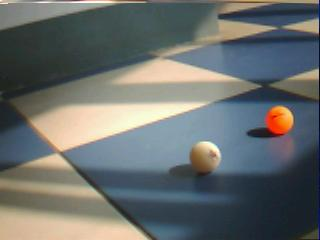oball: (266, 106, 294, 133)
